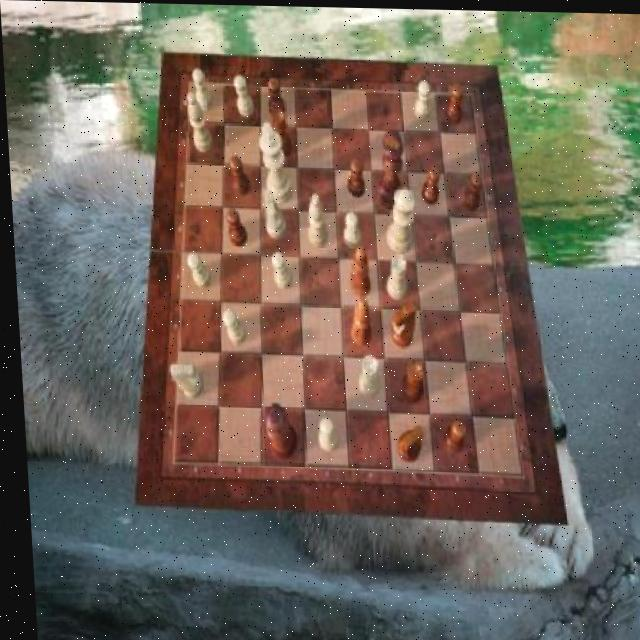bishop: (345, 244, 368, 296), (346, 295, 368, 345)
black-bishop: (373, 126, 405, 207)
black-king: (386, 301, 415, 347), (390, 424, 419, 462)
black-knight: (458, 171, 483, 211), (443, 81, 465, 123), (227, 155, 249, 195), (418, 164, 439, 203), (438, 418, 462, 452), (224, 208, 245, 246), (266, 77, 285, 117), (346, 157, 364, 195)
black-pawn: (257, 403, 293, 459)
black-queen: (269, 108, 291, 157), (396, 359, 421, 402)
black-rook: (186, 91, 212, 153), (304, 193, 327, 247)
white-bishop: (258, 121, 292, 203)
white-king: (166, 363, 200, 399), (262, 189, 285, 238)
white-knight: (233, 73, 254, 116), (219, 308, 243, 344), (192, 68, 212, 111), (186, 252, 210, 287), (268, 251, 290, 289), (313, 416, 335, 451), (412, 80, 431, 120), (340, 210, 359, 247)
white-pawn: (382, 187, 416, 253)
white-queen: (382, 252, 405, 299), (353, 354, 377, 397)
